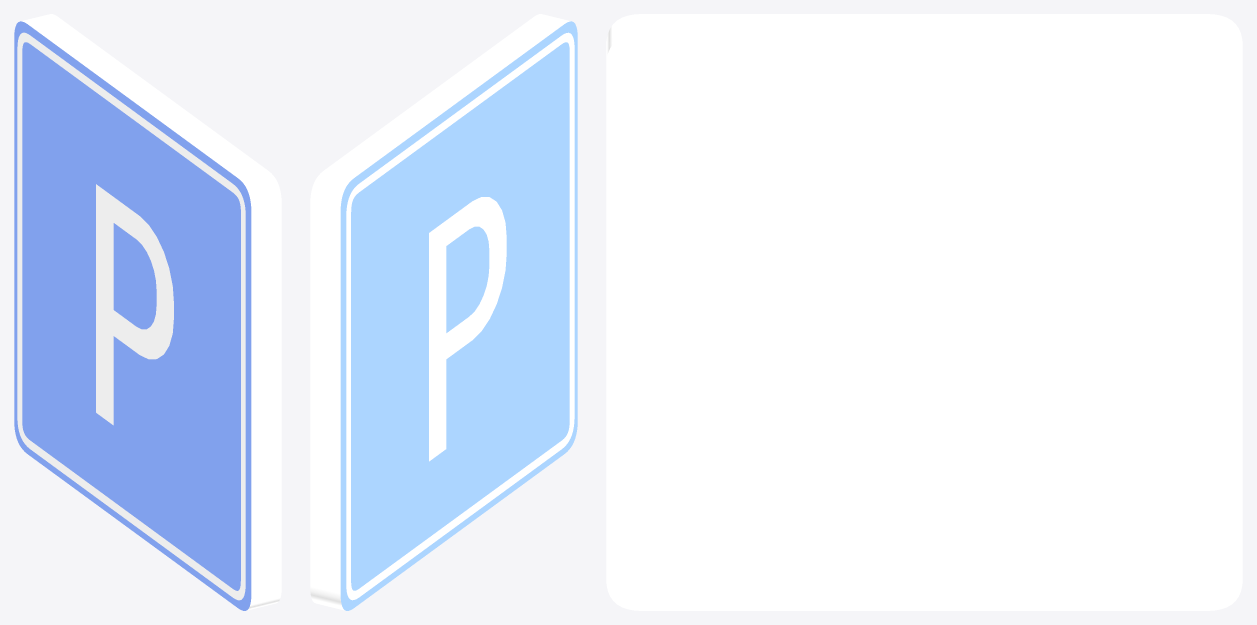
File: Parkingspace.glb
3 renders of one model, left to right at view 1: azimuth 30°, elevation 25°; view 2: azimuth 150°, elevation 25°; view 3: azimuth 270°, elevation 25°, orthographic. The views are drawn at different scales.
Parts seen in each view (by area): view 1: Parkingspace; view 2: Parkingspace; view 3: Parkingspace.
Boxes of the visible parts, x1=… form: Parkingspace: x1=14, y1=14, x2=281, y2=610; Parkingspace: x1=310, y1=14, x2=577, y2=610; Parkingspace: x1=606, y1=14, x2=1242, y2=610.
Size of the model in its own units: 0.0824 by 1.01 by 1.01.
